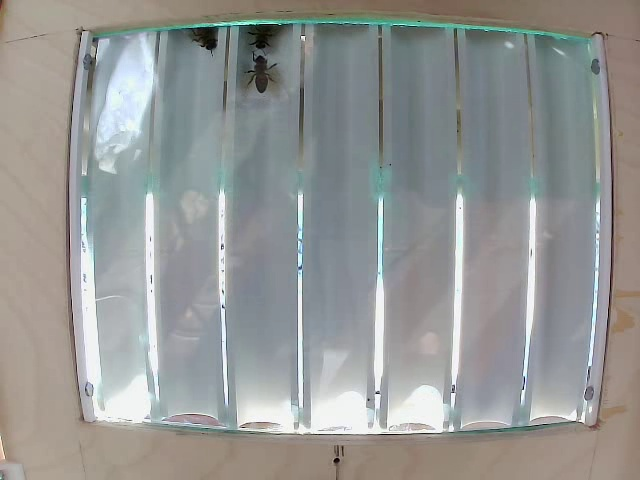bee: (249, 23, 282, 63), (247, 54, 274, 97), (194, 31, 219, 58)
